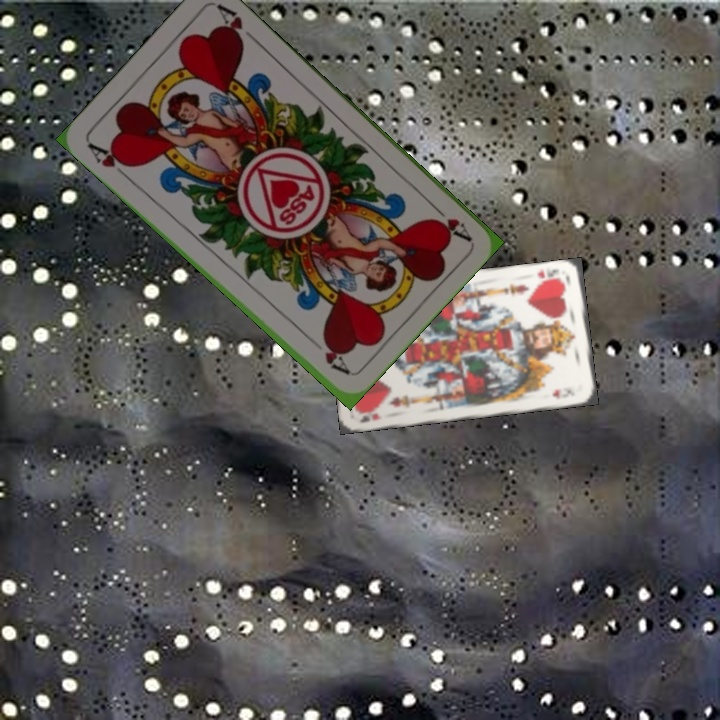HA: (84, 138, 134, 183), (424, 198, 474, 243)
HK: (533, 265, 566, 285), (356, 409, 385, 425)
